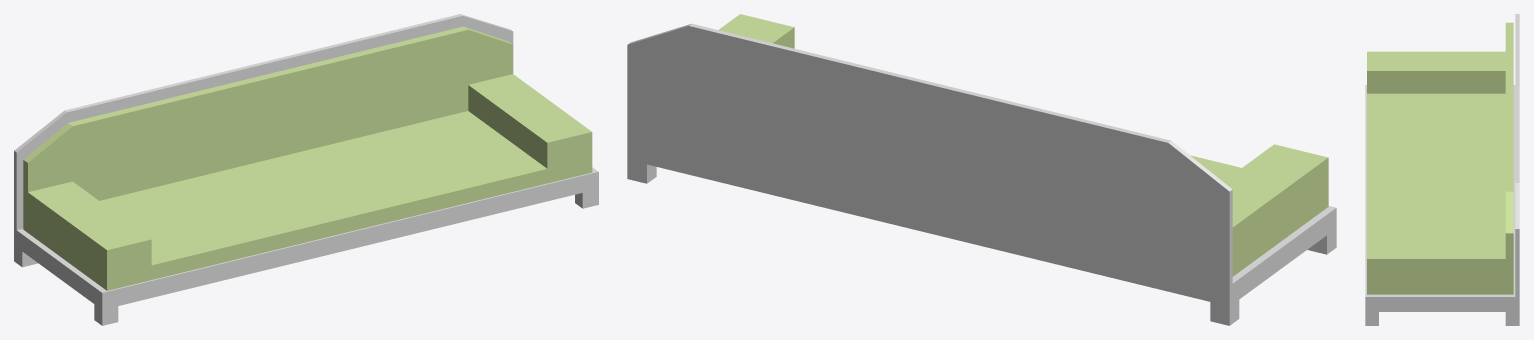
File: couch.fbx
The picture shows the model from 3 angles, left to right: view 1: azimuth 30°, elevation 25°; view 2: azimuth 150°, elevation 25°; view 3: azimuth 270°, elevation 25°; orthographic projection. The views are drawn at different scales.
Parts seen in each view (by area): view 1: Cube.004; view 2: Cube.004; view 3: Cube.004.
Boxes of the visible parts, <box> form: Cube.004: <box>14,14,598,325</box>; Cube.004: <box>627,14,1336,325</box>; Cube.004: <box>1365,14,1519,325</box>.
Size of the model in its own units: 920 by 245 by 283.
